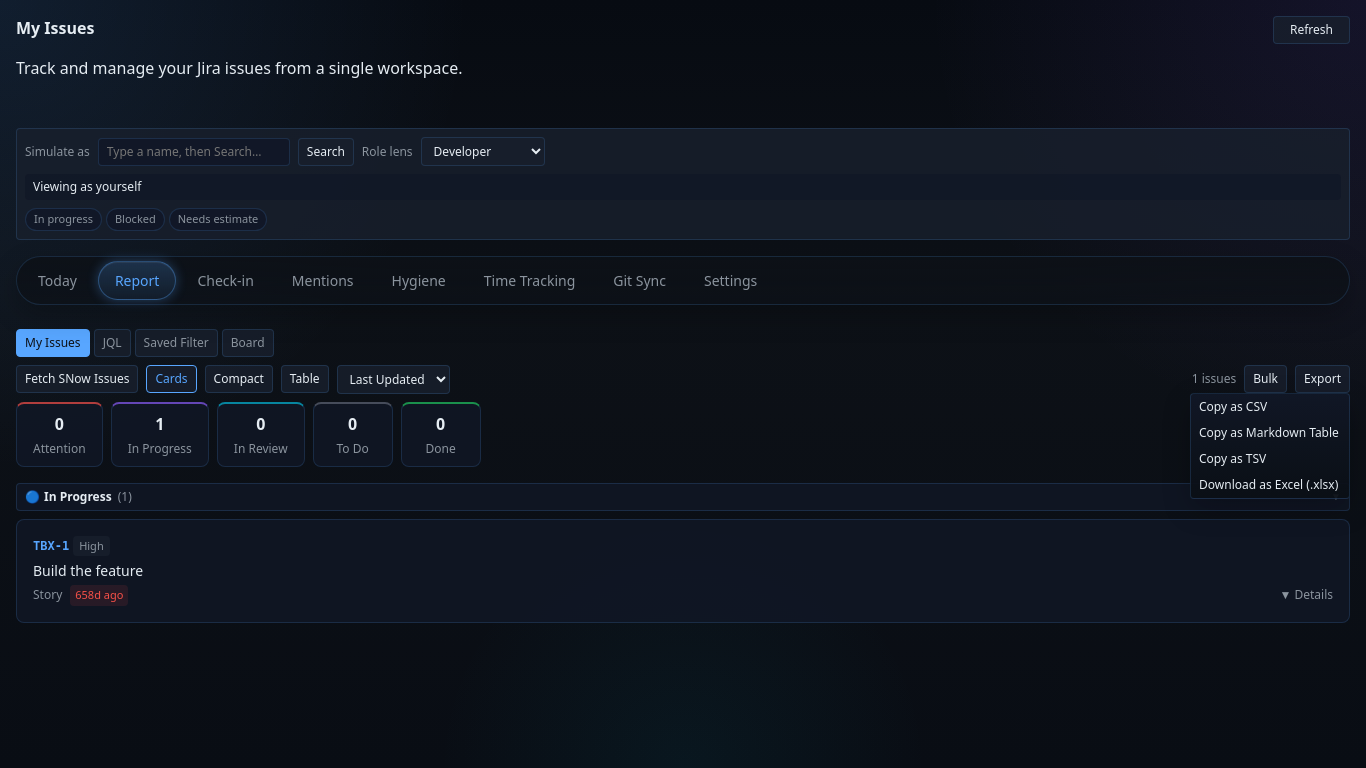
Test: MyIssuesView — personas › emphasises the Scrum Master sections when the role lens changes to SM
Select "Scrum Master" in the dropdown labelled "Role lens" at {"x": 483, "y": 152}, box [421,137,545,166]
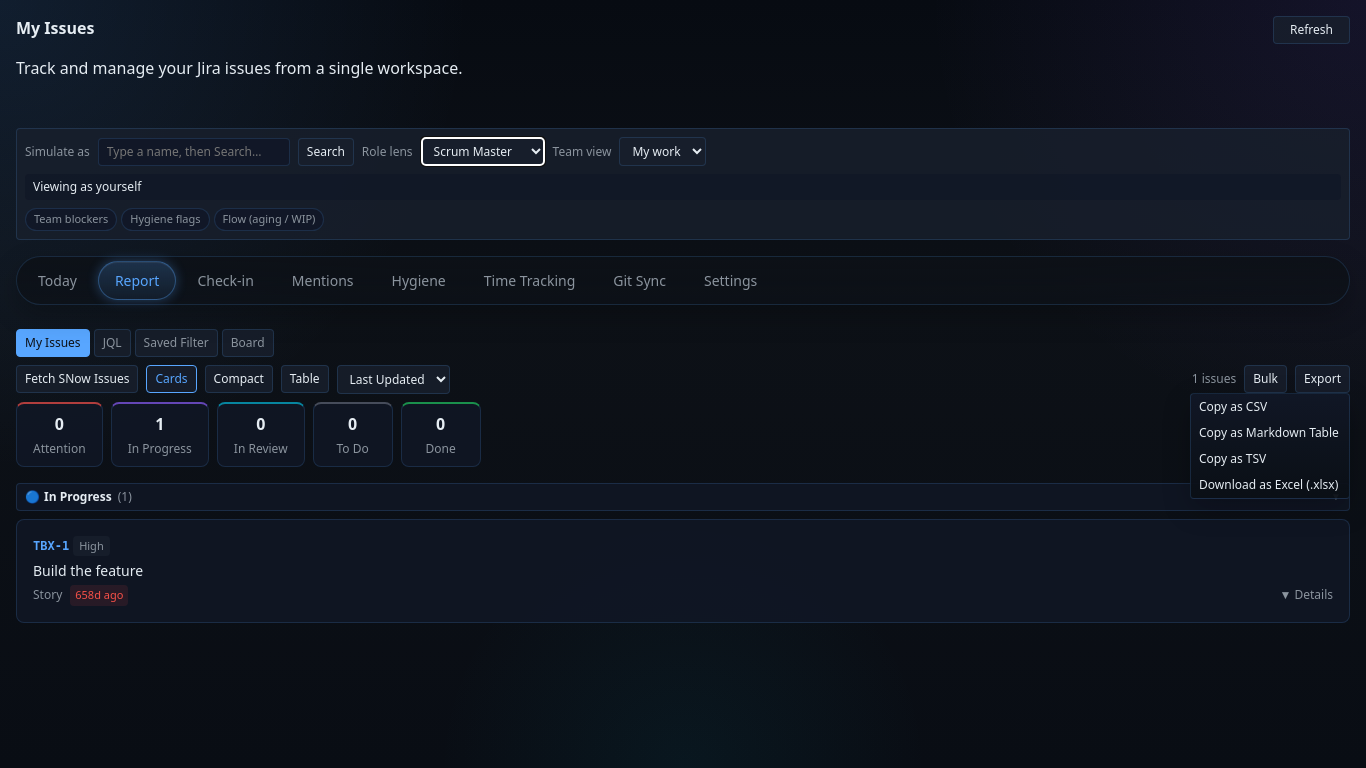
Expected: the text "Team blockers" is shown, [25,208,117,230]
Expected: the text "Flow (aging / WIP)" is shown, [214,208,324,230]
